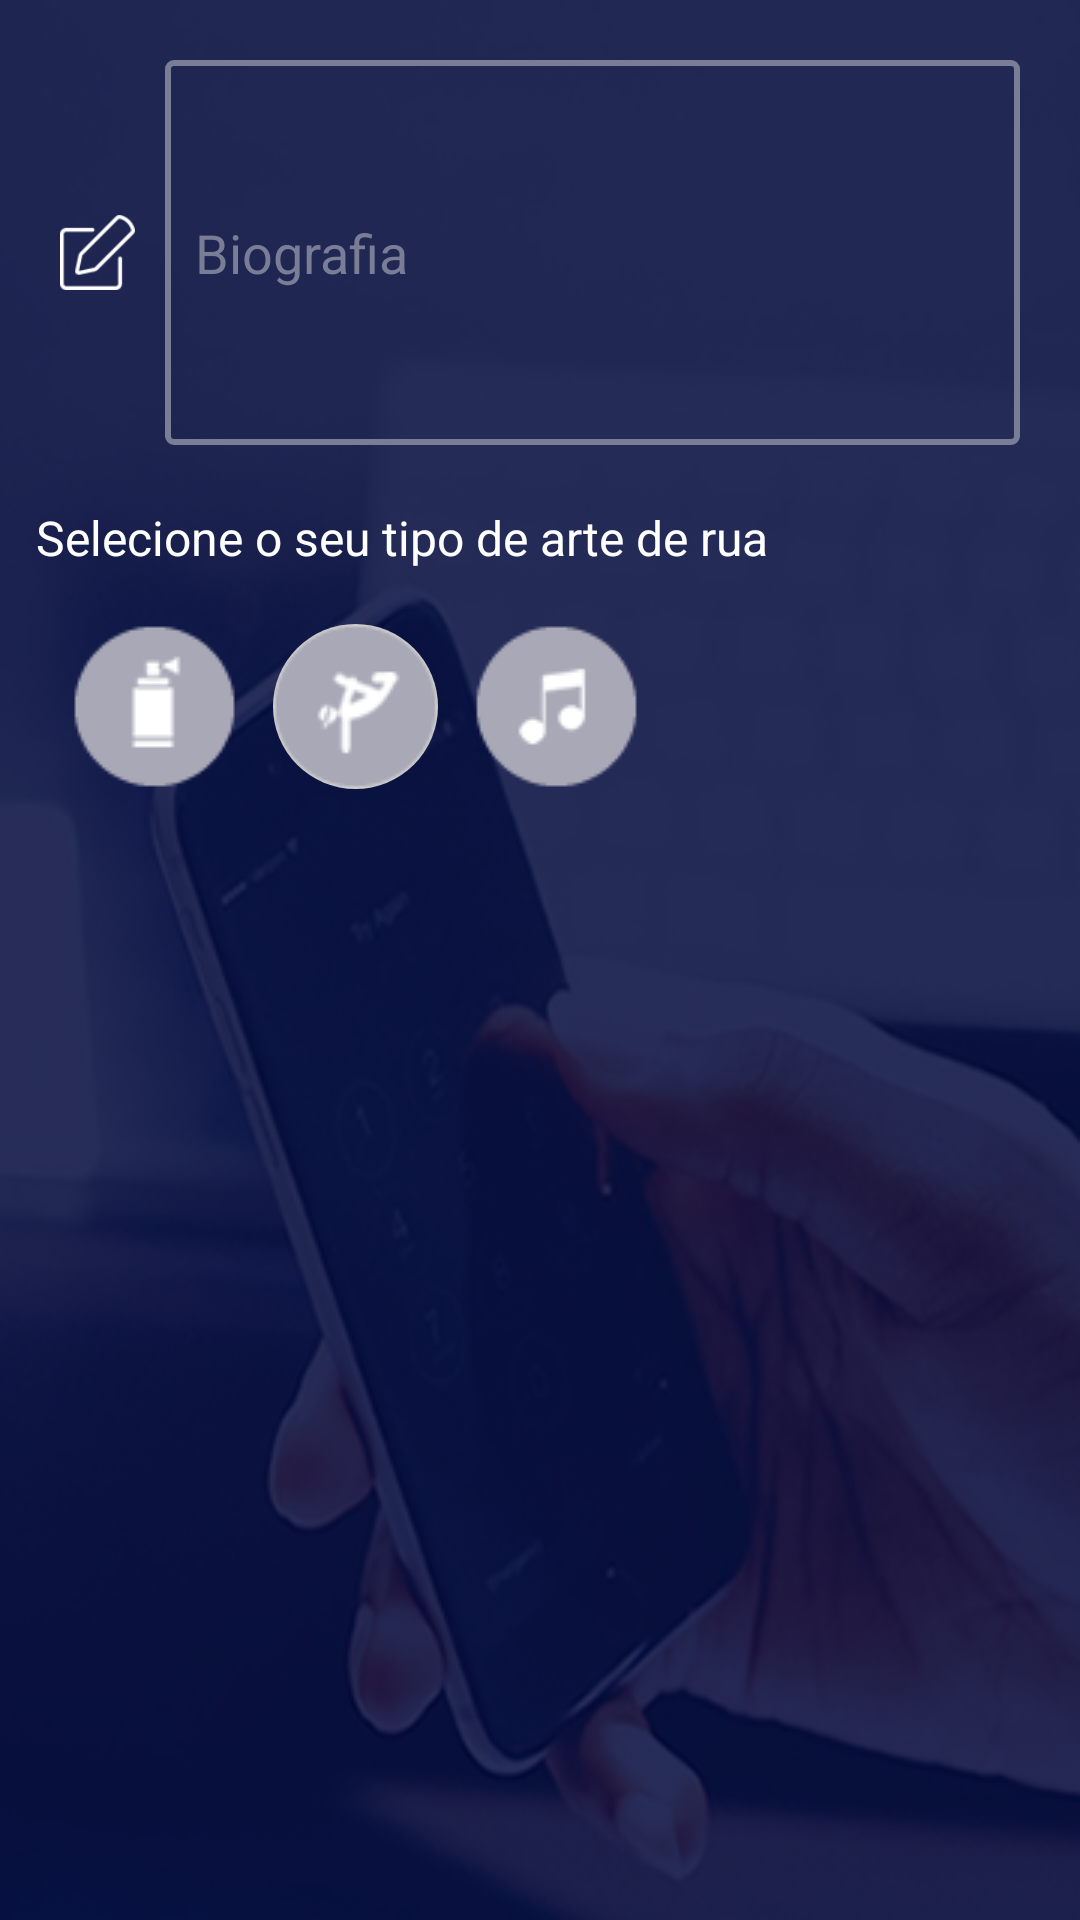

Icon click points for this 1080×1920 phone screenshot, format (x,y):
check danca: (355,706)
check grafiteiro: (154,706)
check musico: (555,707)
edit: (97,252)
